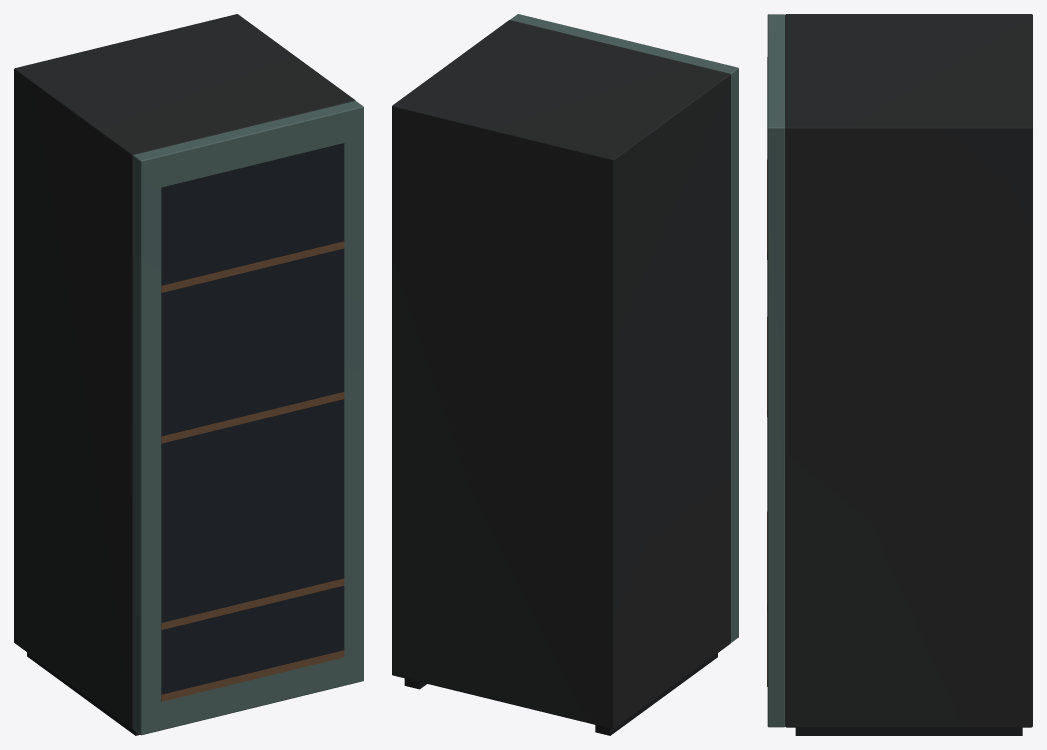
Rendered from W121-reuse-r1-84faf4.glb.
The picture shows the model from 3 angles, left to right: view 1: azimuth 30°, elevation 25°; view 2: azimuth 150°, elevation 25°; view 3: azimuth 270°, elevation 25°; orthographic projection. The views are drawn at different scales.
Parts seen in each view (by area): view 1: body, display_glass, door_0_frame, wood_shelf_1; view 2: body, door_0_frame, trim_foot_left; view 3: body, door_0_frame, trim_foot_left, display_glass.
Boxes of the visible parts, box(x1,y1,x2,y2) form: body: box(14, 14, 355, 729); display_glass: box(161, 143, 344, 694); door_0_frame: box(133, 101, 363, 735); wood_shelf_1: box(161, 241, 344, 701); body: box(392, 20, 730, 729); door_0_frame: box(510, 14, 738, 642); trim_foot_left: box(404, 653, 717, 735); body: box(785, 14, 1032, 727); door_0_frame: box(767, 14, 785, 727); trim_foot_left: box(795, 727, 1022, 735); display_glass: box(767, 57, 767, 685).
Size of the model in its own units: 0.595 by 1.49 by 0.585.
